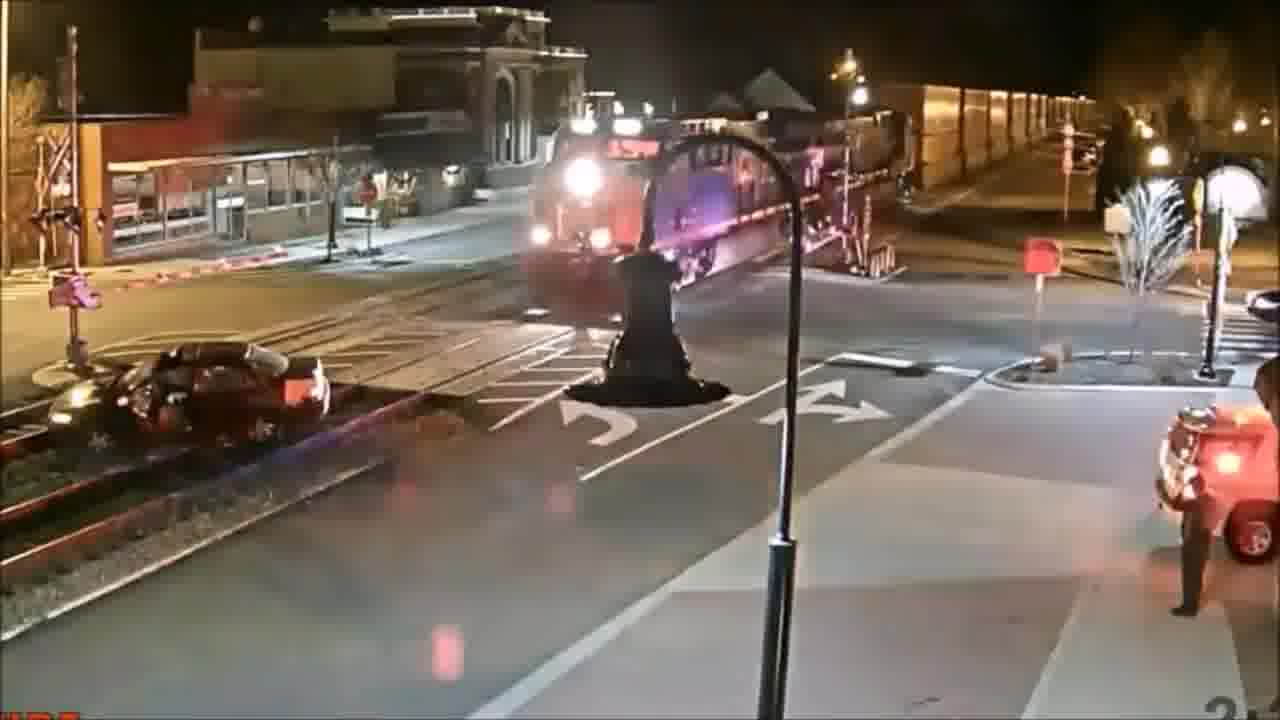crossing railway track: (40, 334, 337, 471)
